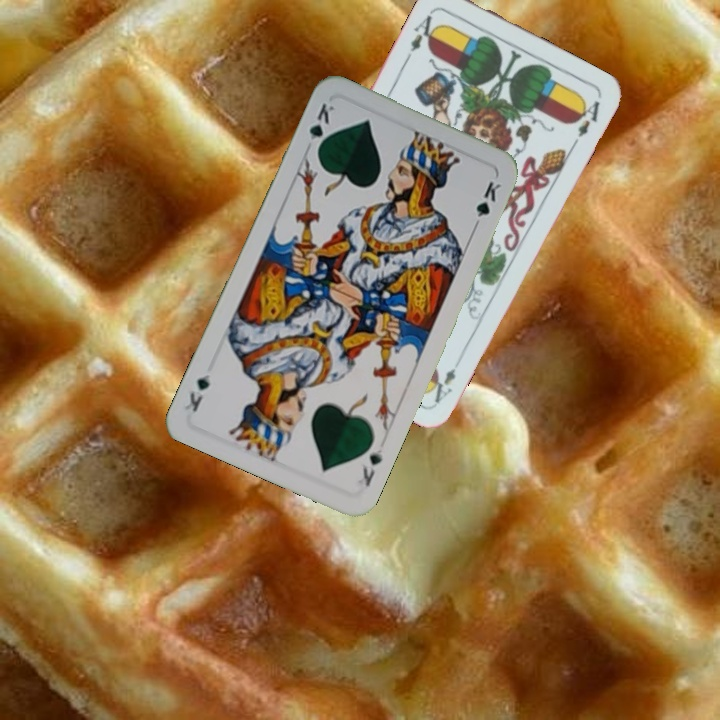EA: (403, 6, 442, 61), (424, 364, 459, 406)
GK: (305, 99, 337, 156), (358, 443, 385, 489)
